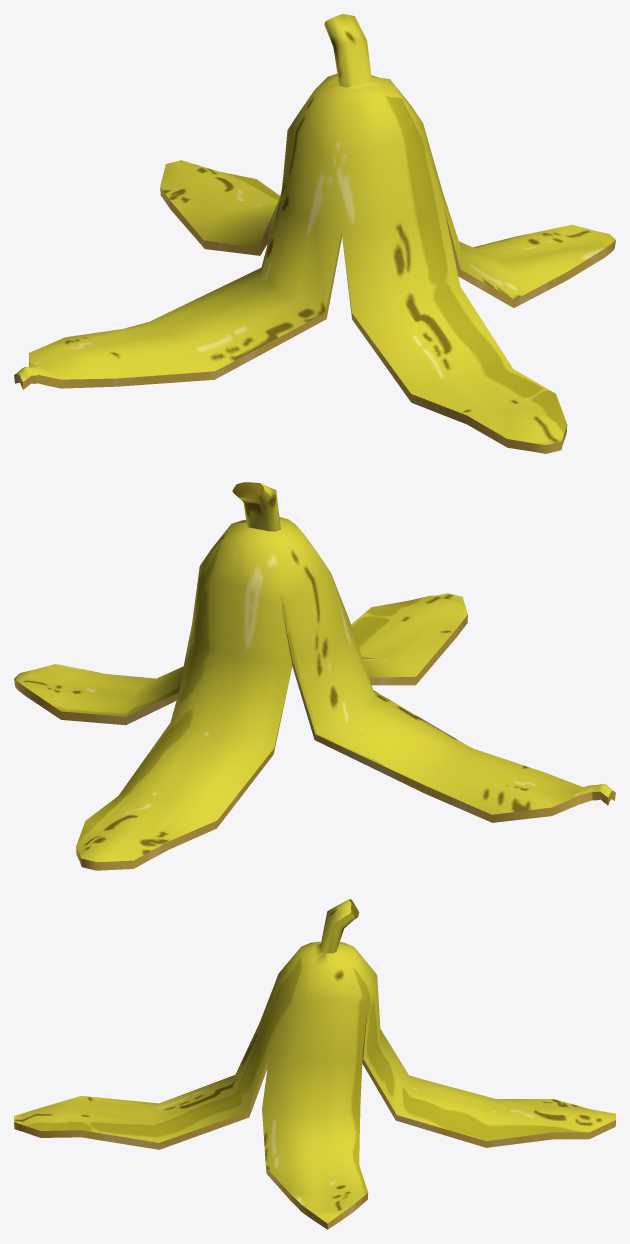
Rendered from banana_scivolo.fbx.
3 views of the same model, one above another, from view 1: azimuth 30°, elevation 25°; view 2: azimuth 150°, elevation 25°; view 3: azimuth 270°, elevation 25° (orthographic). The views are drawn at different scales.
Parts seen in each view (by area): view 1: Cube.001; view 2: Cube.001; view 3: Cube.001.
Boxes of the visible parts, x1,y1,x2,y2 form: Cube.001: (14,14,615,453); Cube.001: (14,482,615,870); Cube.001: (14,899,615,1229).
Size of the model in its own units: 124 by 55.95 by 134.
